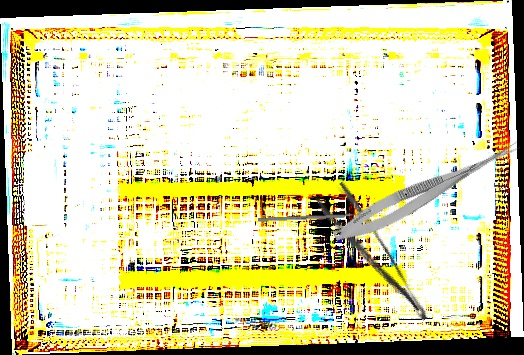Dressing Forceps: (314, 179, 431, 336)
Micro Scissor: (329, 129, 524, 252)
Pusher: (257, 211, 375, 223)
